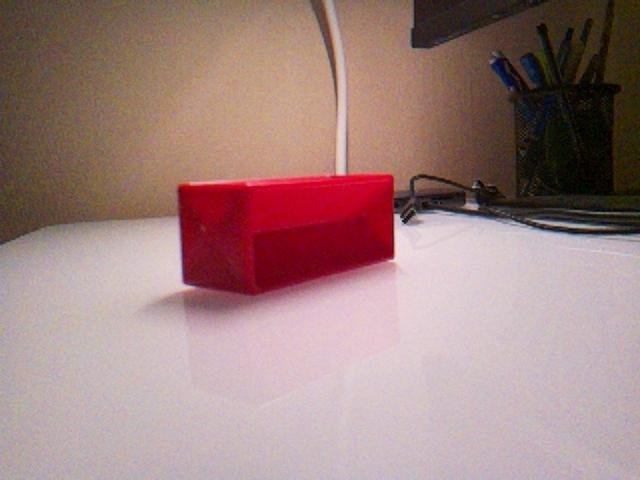red: (176, 172, 397, 296)
